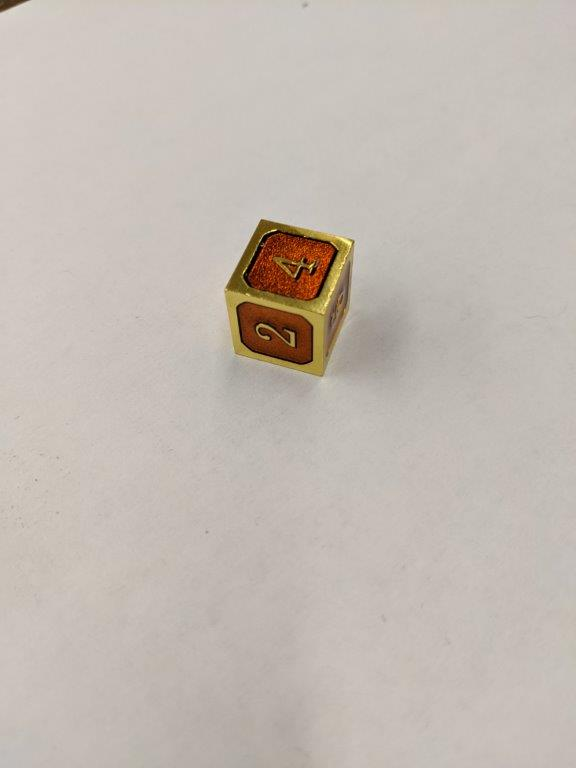d6-4: (222, 217, 357, 377)
